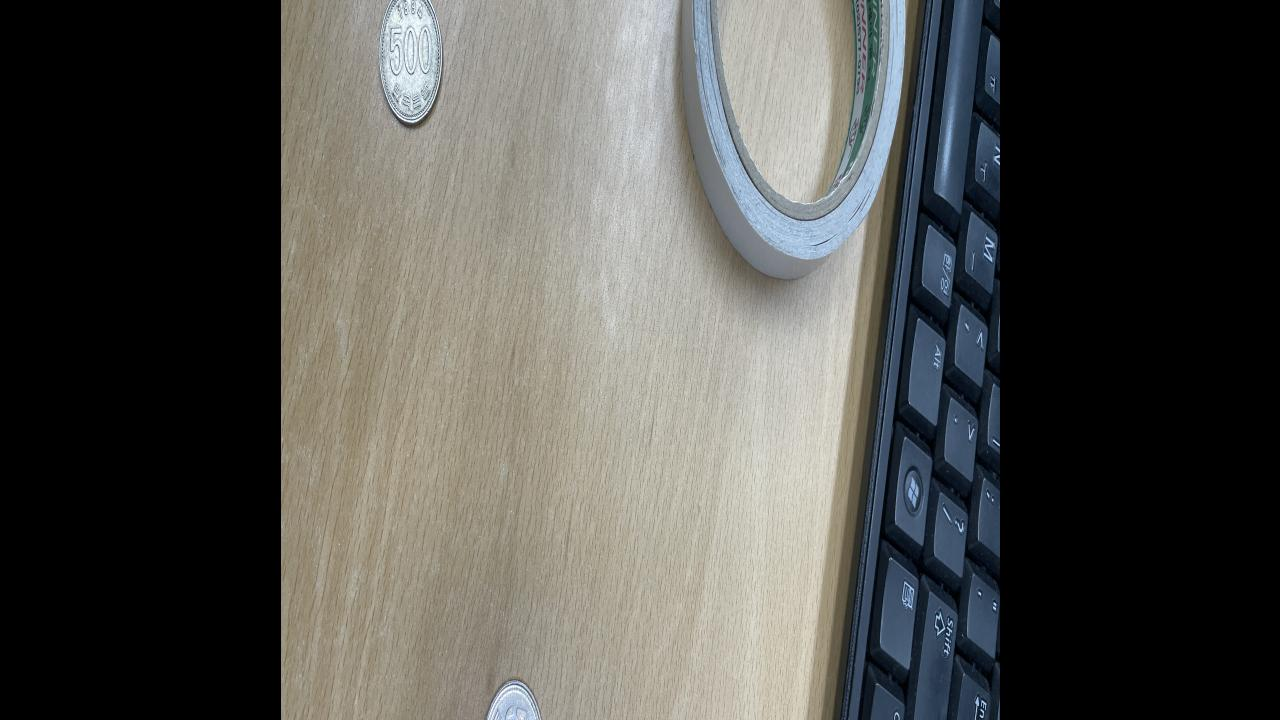coin: (377, 0, 443, 130), (480, 679, 542, 720)
